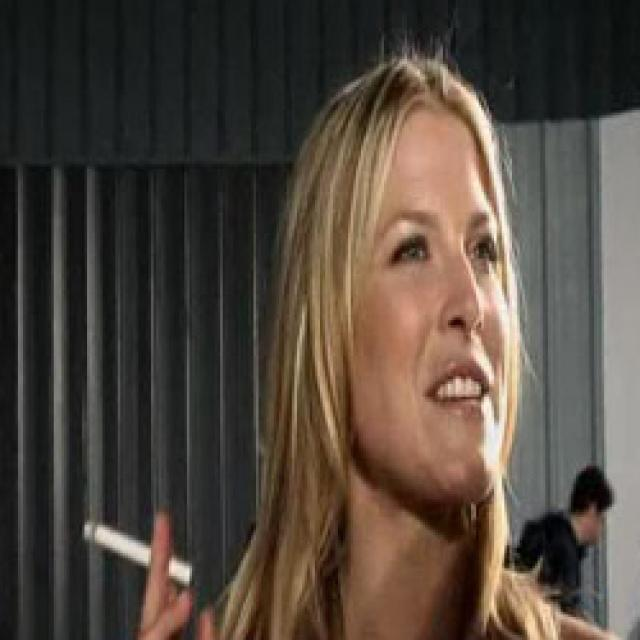Smooking: (72, 518, 202, 591)
